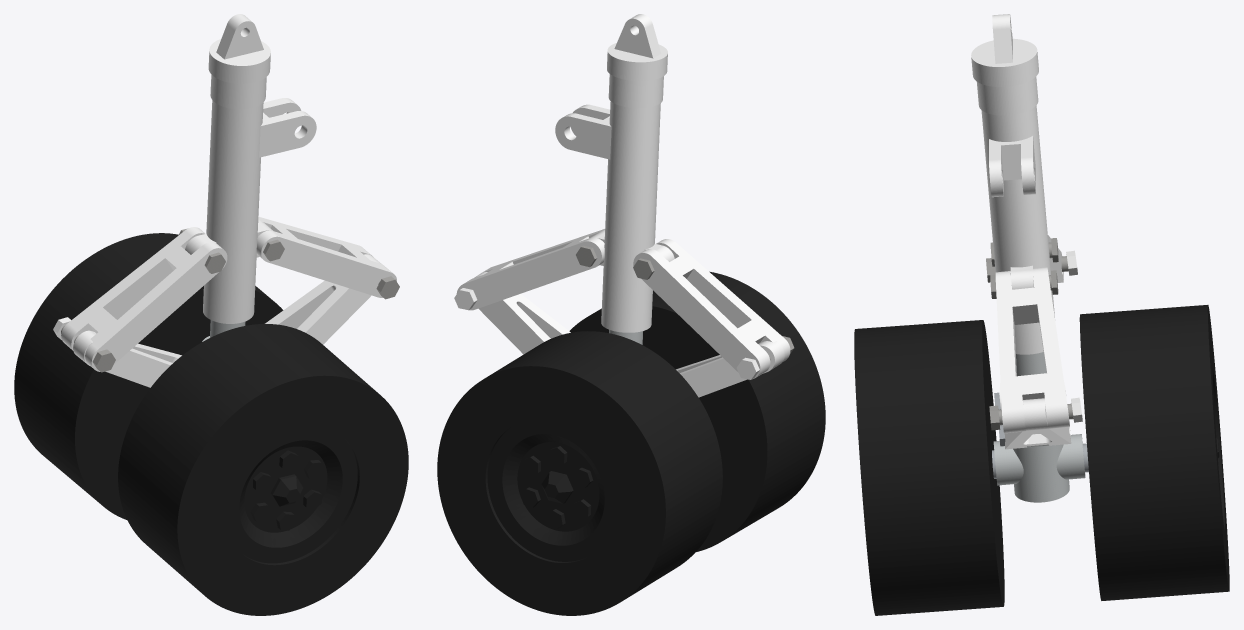
Rendered from Landing_Gear.glb.
3 views of the same model, side by side, from view 1: azimuth 30°, elevation 25°; view 2: azimuth 150°, elevation 25°; view 3: azimuth 270°, elevation 25° (orthographic). The views are drawn at different scales.
Parts seen in each view (by area): view 1: Wheels_001, Wheels_002, LandingGEar_001, LandinngConnector_002, LandinngConnector_001, Connector2_001, Connector2_002; view 2: Wheels_002, Wheels_001, LandingGEar_001, LandinngConnector_002, LandinngConnector_001, Connector2_001, Connector2_002; view 3: Wheels_001, Wheels_002, LandingGEar_001, LandinngConnector_001, BUGGGY_001, Connector2_001.
Boxes of the visible parts, box(x1,y1,x2,y2) form: Wheels_001: box(118, 324, 408, 615); Wheels_002: box(14, 233, 283, 519); LandingGEar_001: box(185, 14, 316, 323); LandinngConnector_002: box(61, 227, 227, 371); LandinngConnector_001: box(256, 216, 396, 297); Connector2_001: box(265, 254, 381, 344); Connector2_002: box(73, 330, 181, 387); Wheels_002: box(437, 331, 722, 615); Wheels_001: box(569, 271, 825, 551); LandingGEar_001: box(555, 14, 674, 332); LandinngConnector_002: box(633, 239, 790, 379); LandinngConnector_001: box(456, 229, 604, 310); Connector2_001: box(474, 272, 570, 354); Connector2_002: box(676, 341, 784, 397); Wheels_001: box(854, 320, 1004, 615); Wheels_002: box(1079, 305, 1229, 600); LandingGEar_001: box(971, 14, 1054, 354); LandinngConnector_001: box(995, 267, 1069, 433); BUGGGY_001: box(993, 352, 1085, 502); Connector2_001: box(1004, 398, 1071, 449).
Bounding box in the file's own units: 175 × 296 × 170.
Materials: 7 (3 with a texture image).
